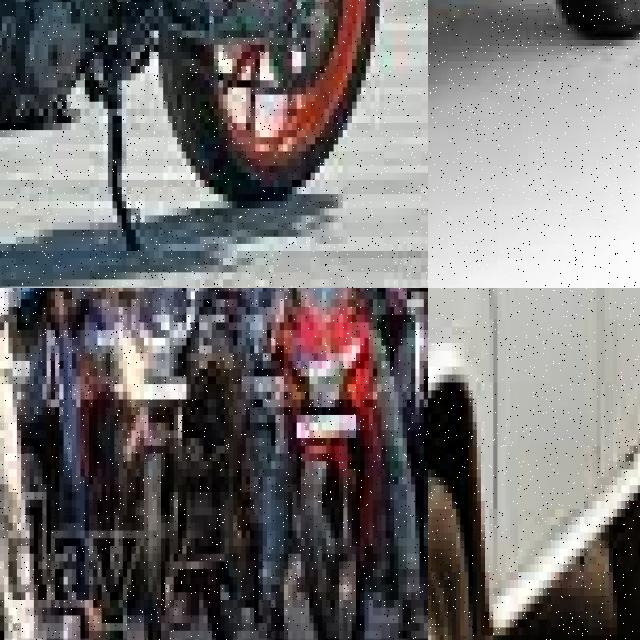bike: (0, 0, 398, 279), (271, 288, 398, 640), (110, 288, 224, 640)
car: (428, 288, 640, 640), (428, 0, 639, 283)
